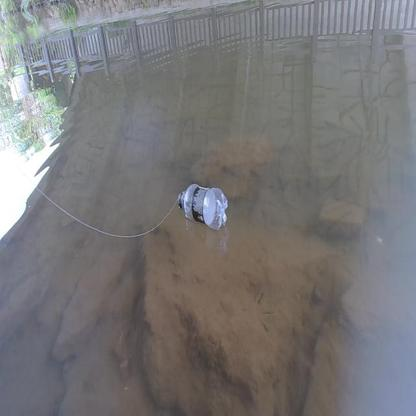plastic bottle: (176, 184, 227, 230)
